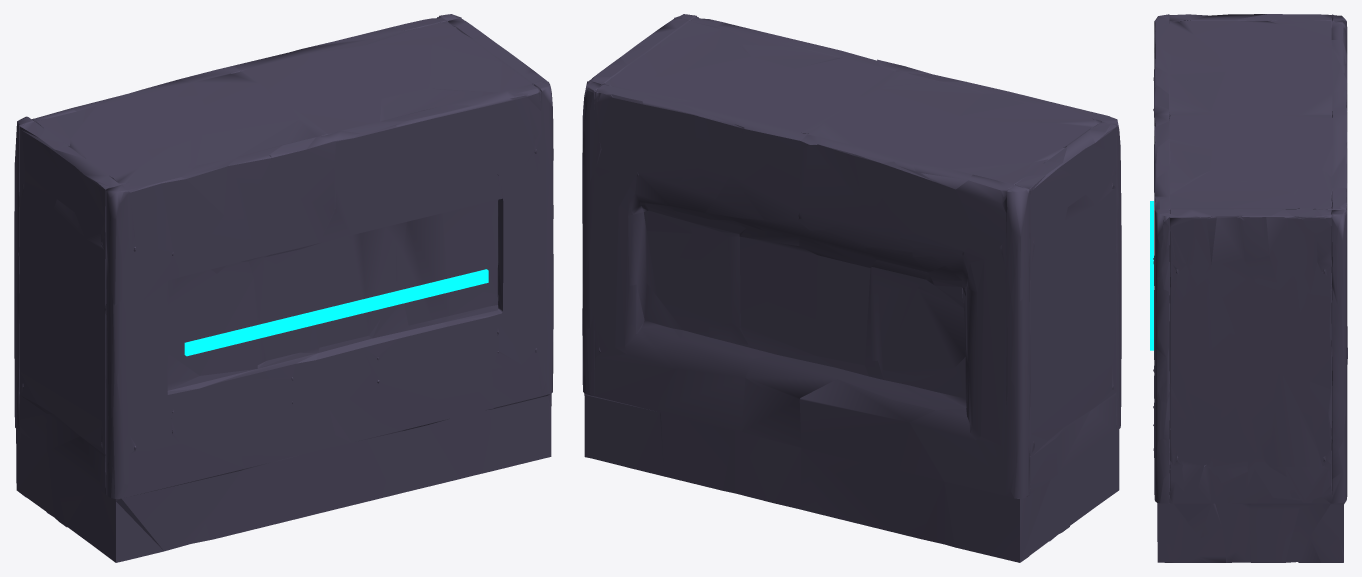
The model's file is cover_half_city_v1.glb.
3 views of the same model, side by side, from view 1: azimuth 30°, elevation 25°; view 2: azimuth 150°, elevation 25°; view 3: azimuth 270°, elevation 25° (orthographic). The views are drawn at different scales.
Visible parts, largest first — view 1: object 1, inset light strip; view 2: object 1; view 3: object 1, inset light strip.
Part boxes in pixels (x1,y1,x2,y2): object 1: (14,14,553,562); inset light strip: (184,269,488,356); object 1: (582,14,1121,562); object 1: (1153,14,1347,562); inset light strip: (1150,201,1153,350).
Bounding box in the file's own units: 1 × 0.7997 × 0.4113.
